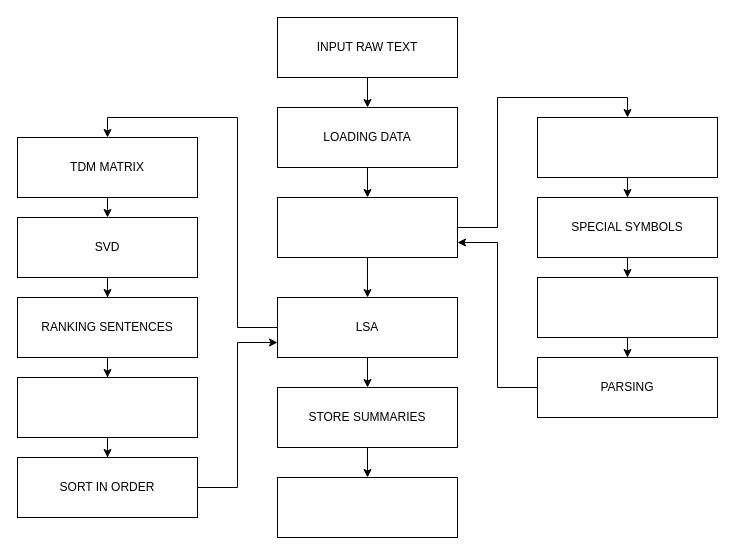
The diagram is 735 pixels wide and 555 high, and some of its shapes have lost their labels. Here are the shapes that lost their labels. From the top down, the centre of each, then its label:
At point 627,147: "REMOVE SPACES".
At point 367,227: "PREPROCESSING".
At point 627,307: "LOWER CASE".
At point 107,407: "SELECT TOP K".
At point 367,507: "ROUGE SCORE".
